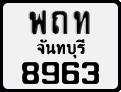letters: (28, 9, 47, 36), (72, 9, 91, 35), (21, 61, 40, 85), (41, 61, 60, 85), (61, 61, 80, 85), (81, 61, 100, 85), (51, 10, 69, 35)
province: (36, 37, 86, 60)
